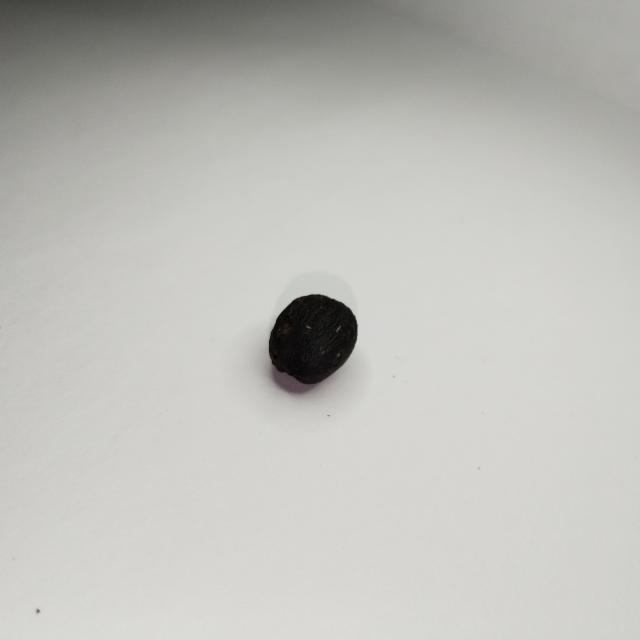Danado: (269, 295, 357, 384)
